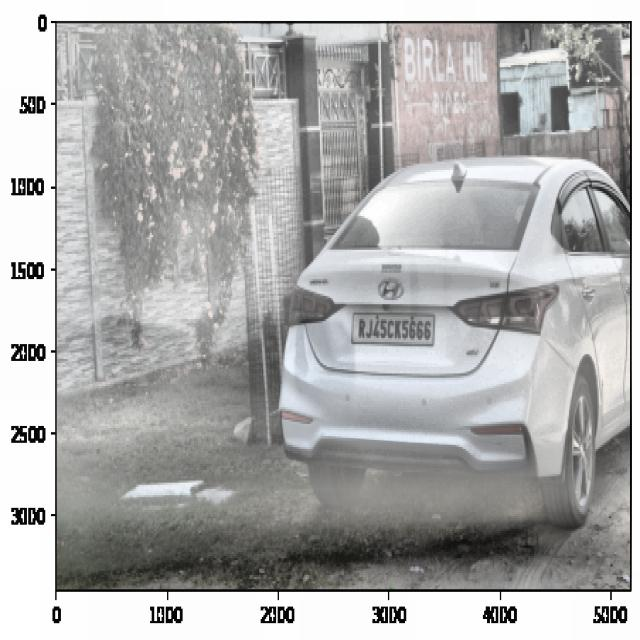license_plate: (356, 310, 434, 350)
